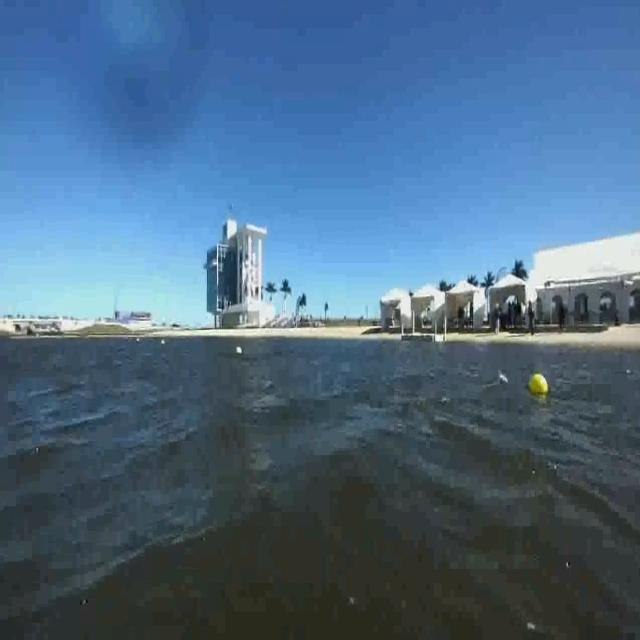yellow-buoy: (530, 372, 551, 392)
